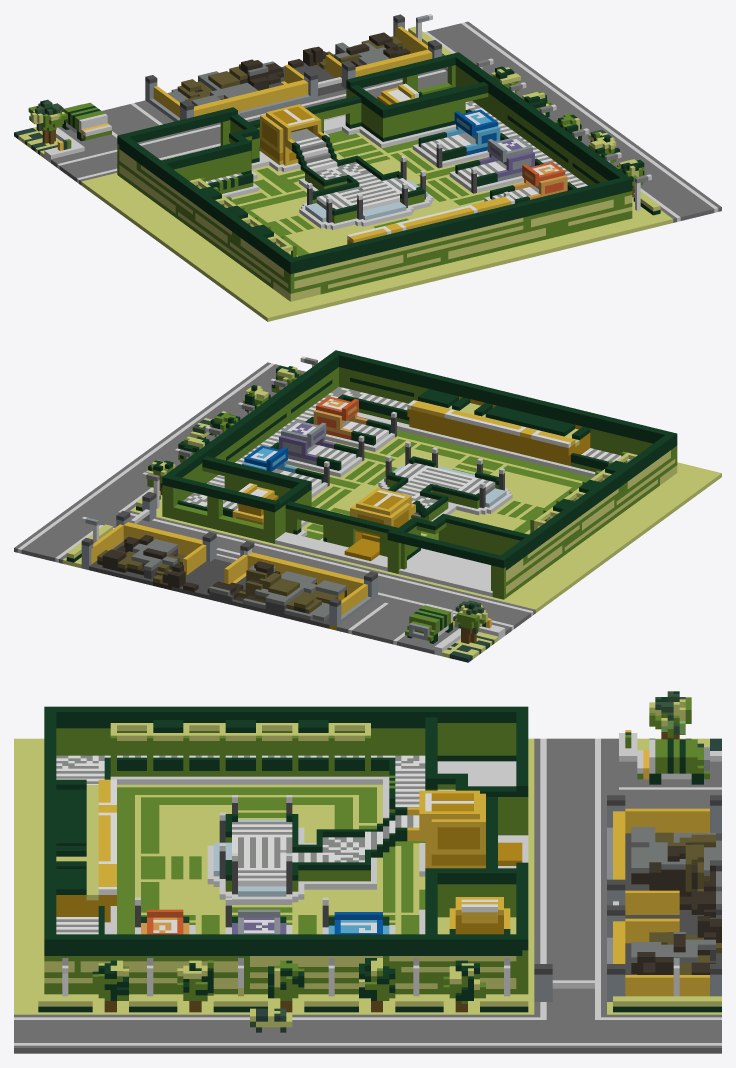
Rendered from maptest.gltf.
The picture shows the model from 3 angles, top to bottom: view 1: azimuth 30°, elevation 25°; view 2: azimuth 150°, elevation 25°; view 3: azimuth 270°, elevation 25°; orthographic projection. The views are drawn at different scales.
Bounding box in the file's own units: 12.1 × 1.2 × 11.7.
Materials: 1 (1 with a texture image).
